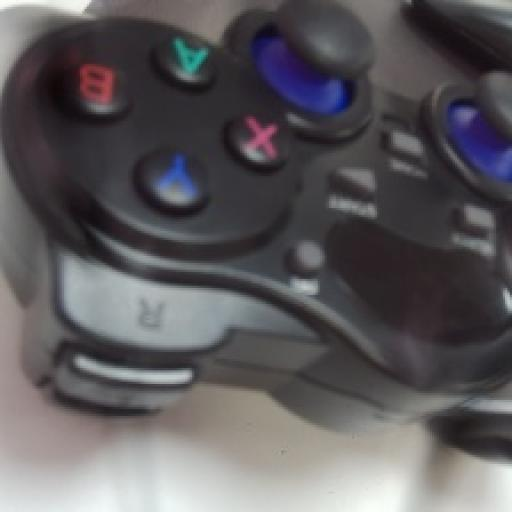game pad: (0, 0, 510, 455)
